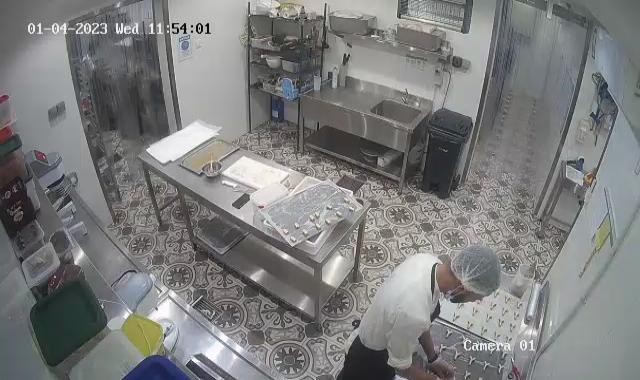hairnet: (451, 238, 501, 300)
